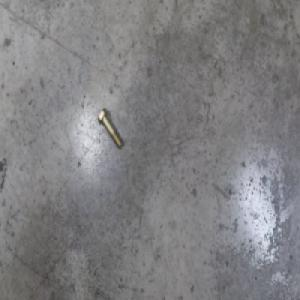Bolt: (97, 108, 122, 150)
